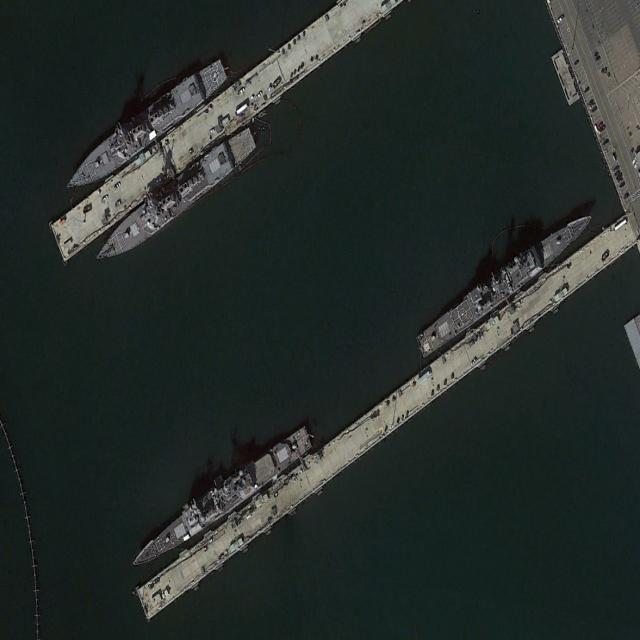Cruiser: (127, 419, 314, 579), (414, 199, 596, 362)
Destroyer: (89, 119, 260, 275), (61, 50, 229, 203)
